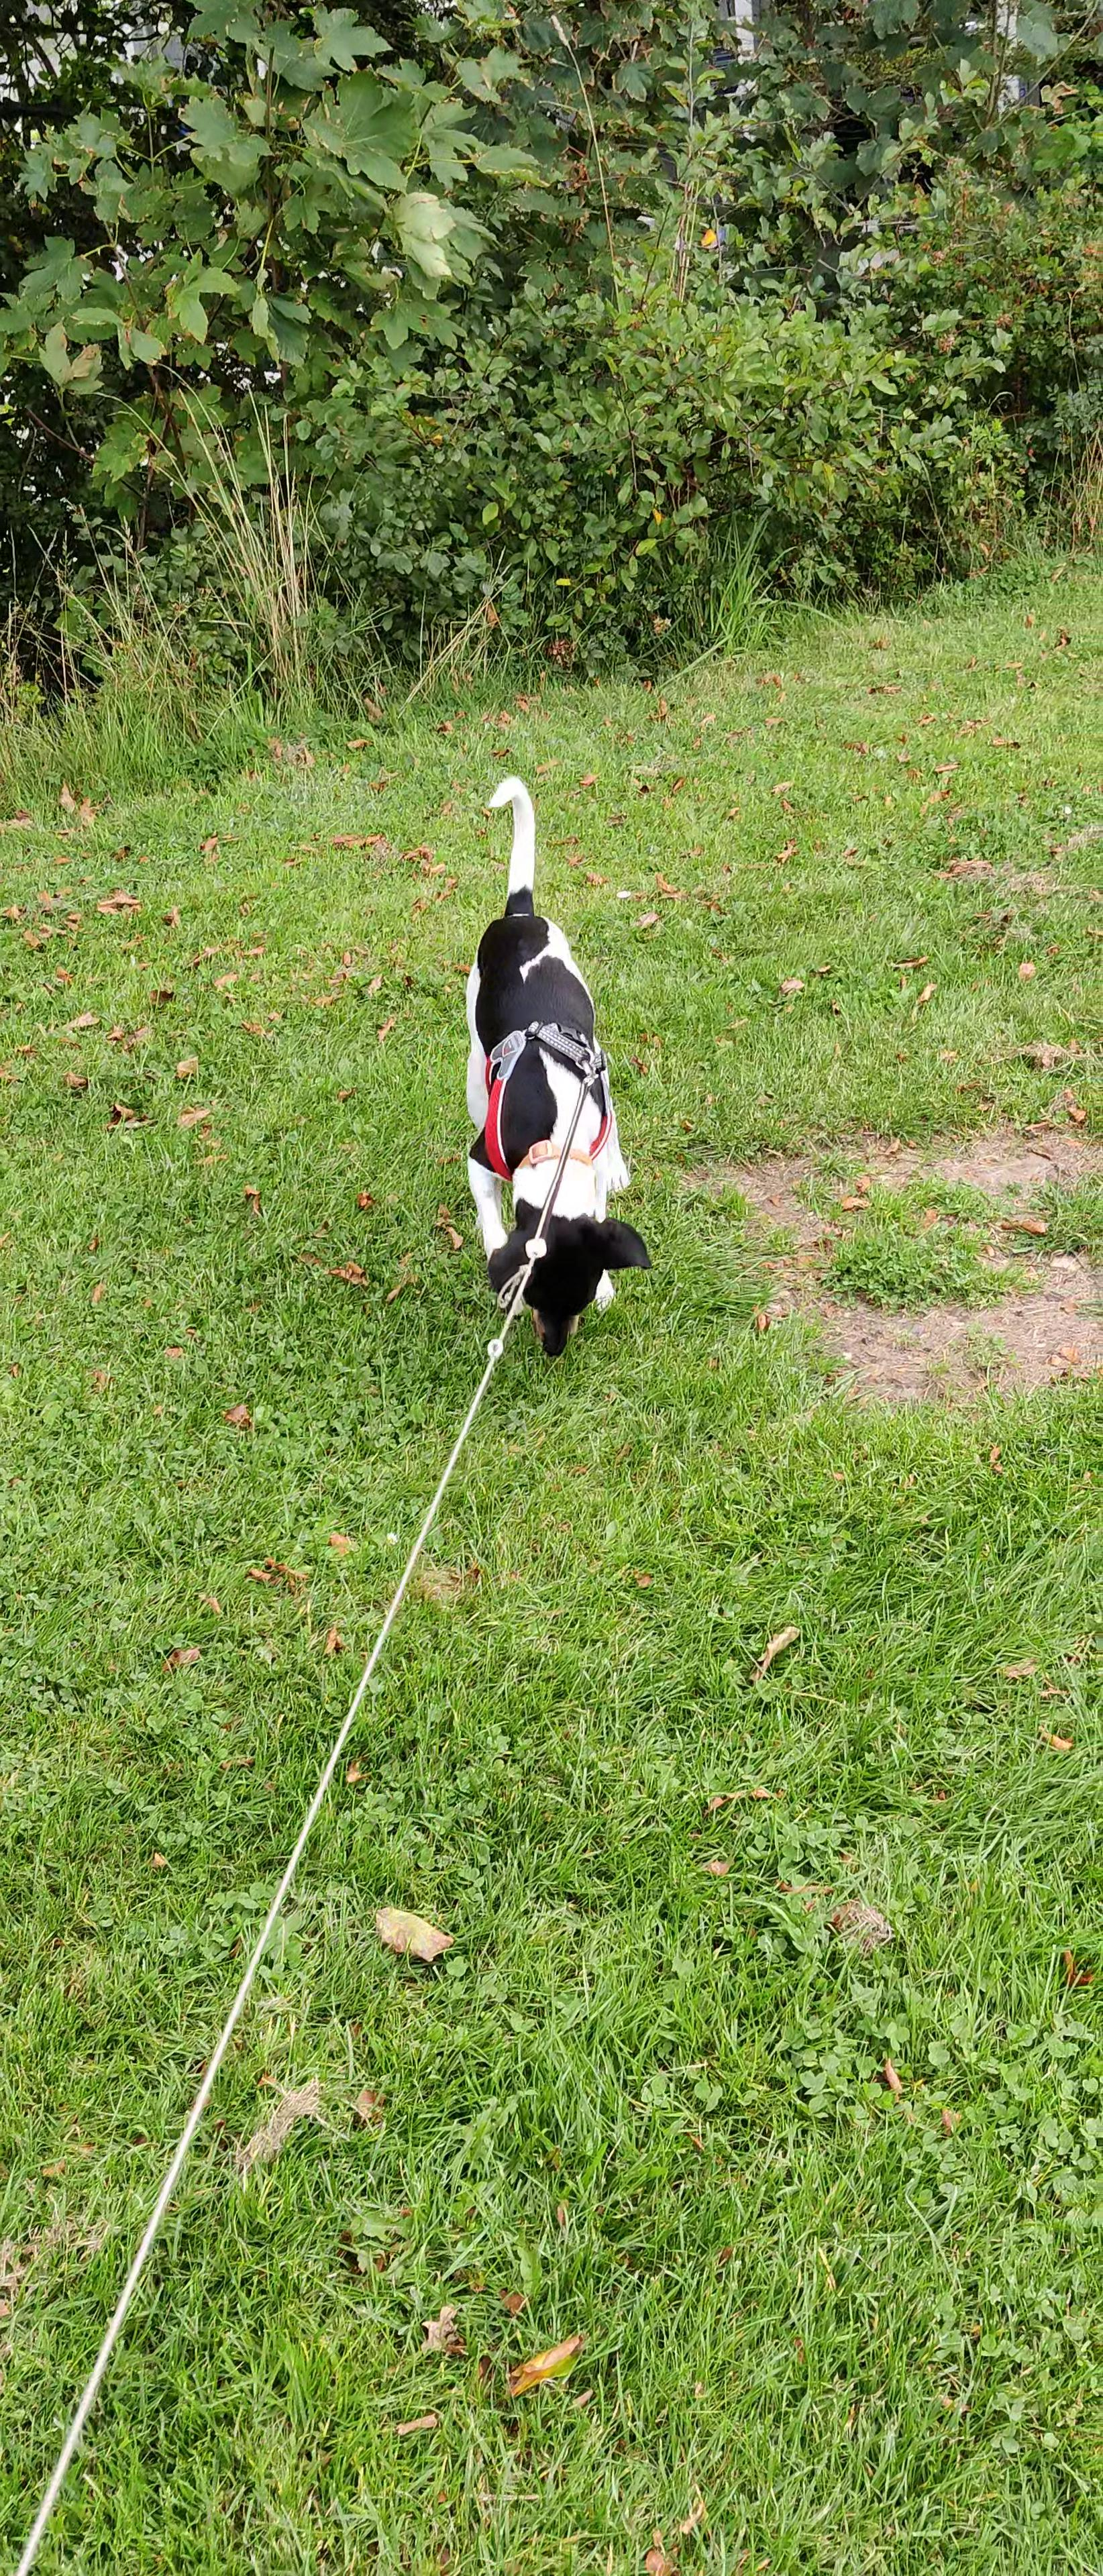Dog: (396, 766, 687, 1372)
